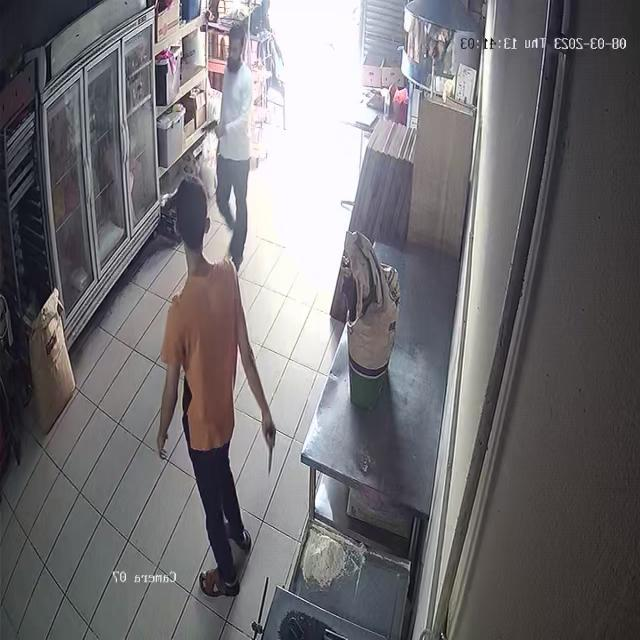Gun: (195, 112, 225, 141)
Knife: (258, 422, 284, 484)
